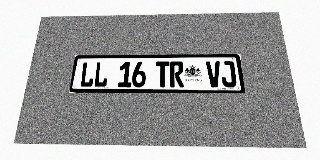1: (118, 62, 133, 87)
6: (132, 62, 146, 87)
J: (220, 61, 237, 87)
L: (79, 62, 95, 87), (93, 62, 109, 87)
R: (170, 61, 184, 87)
T: (156, 61, 169, 87)
V: (206, 61, 222, 87)
